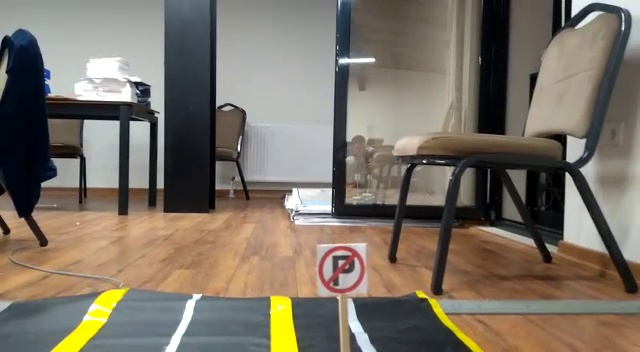park_yapilmaz: (316, 244, 366, 297)
